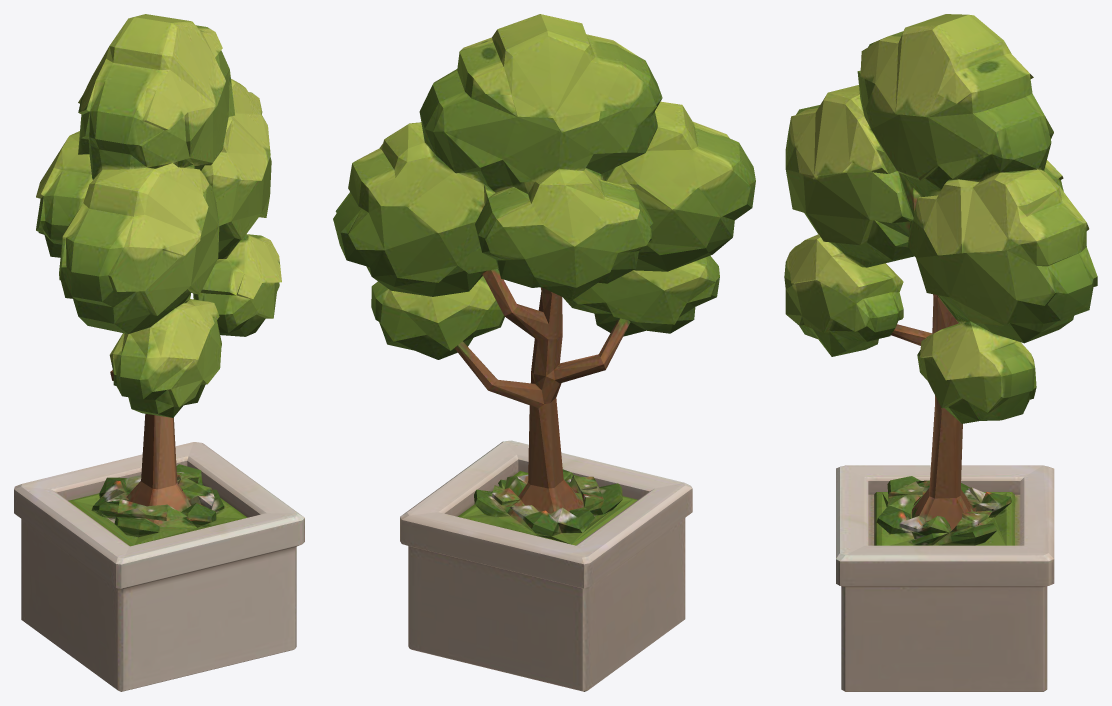
The model's file is tree-C8a6mexg.glb.
3 views of the same model, side by side, from view 1: azimuth 30°, elevation 25°; view 2: azimuth 150°, elevation 25°; view 3: azimuth 270°, elevation 25° (orthographic). The views are drawn at different scales.
Parts seen in each view (by area): view 1: tripo_node_f0cae399-faee-4a44-94df-6b171005b1b6; view 2: tripo_node_f0cae399-faee-4a44-94df-6b171005b1b6; view 3: tripo_node_f0cae399-faee-4a44-94df-6b171005b1b6.
Boxes of the visible parts, bbox=[...] form: tripo_node_f0cae399-faee-4a44-94df-6b171005b1b6: bbox=[14, 14, 304, 691]; tripo_node_f0cae399-faee-4a44-94df-6b171005b1b6: bbox=[333, 14, 755, 691]; tripo_node_f0cae399-faee-4a44-94df-6b171005b1b6: bbox=[784, 14, 1097, 691].
Size of the model in its own units: 0.5108 by 0.9775 by 0.4419.
1 material, 1 textured.
